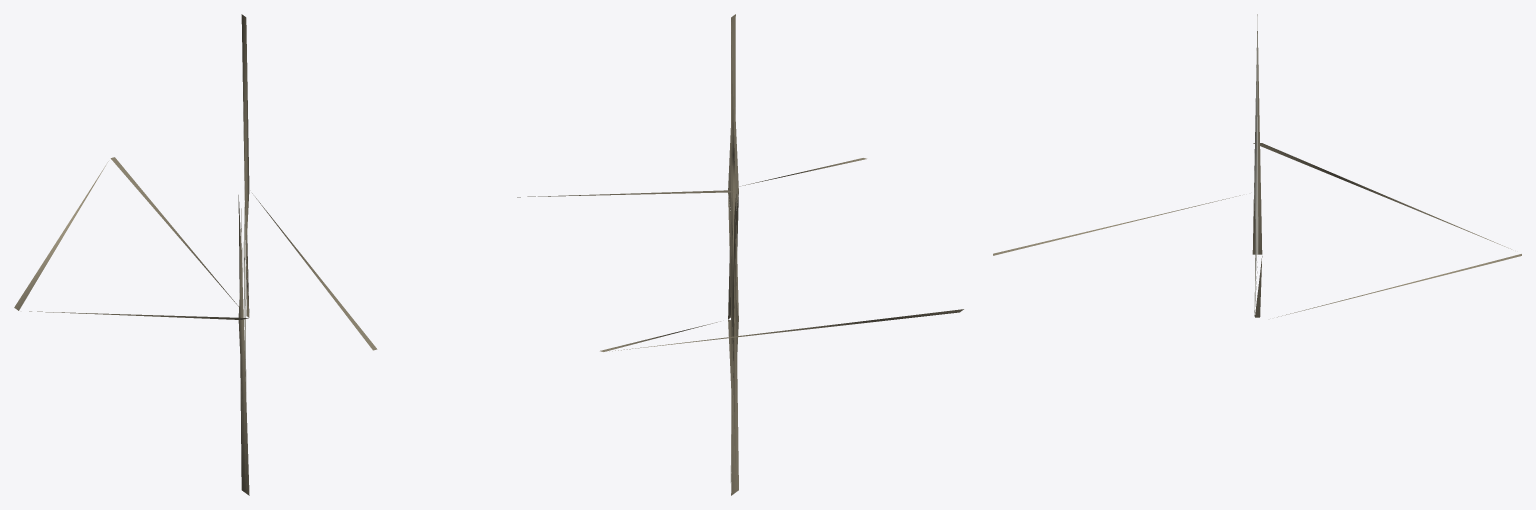
The model's file is equip_weapon_yew_shortbow.glb.
3 views of the same model, side by side, from view 1: azimuth 30°, elevation 25°; view 2: azimuth 150°, elevation 25°; view 3: azimuth 270°, elevation 25° (orthographic).
Parts seen in each view (by area): view 1: equip_weapon_yew_shortbow; view 2: equip_weapon_yew_shortbow; view 3: equip_weapon_yew_shortbow.
Boxes of the visible parts, x1,y1,x2,y2 form: equip_weapon_yew_shortbow: (14,14,377,495); equip_weapon_yew_shortbow: (517,14,963,495); equip_weapon_yew_shortbow: (993,14,1521,317).
Bounding box in the file's own units: 2 × 2 × 2.
